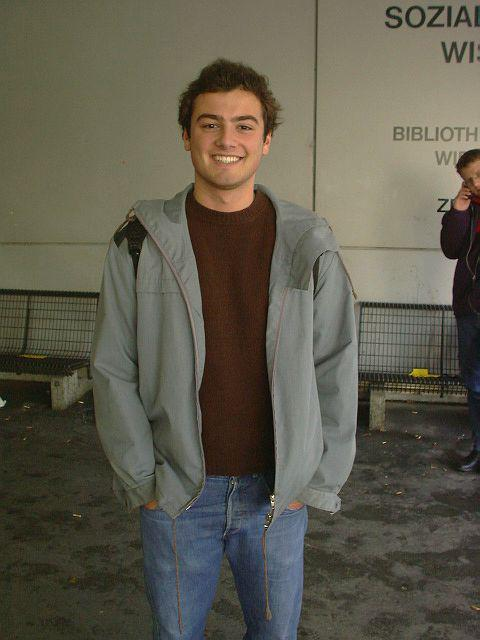Person: (91, 63, 360, 640), (436, 142, 480, 477)
